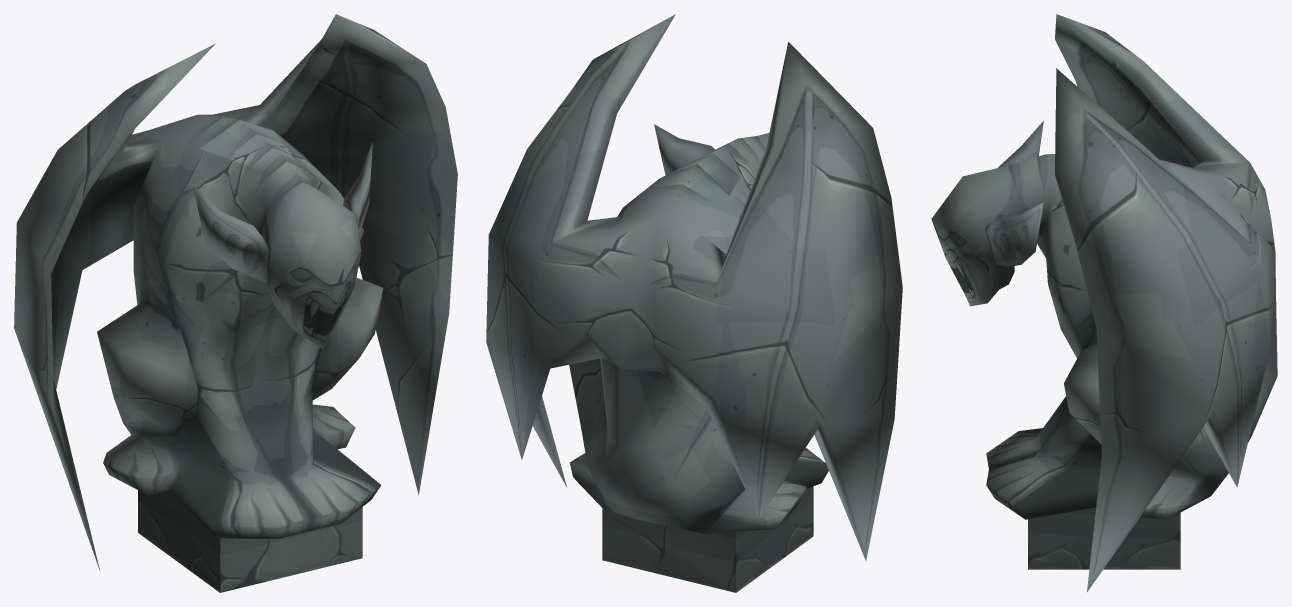
File: Dg_01_StoneStatue_001.FBX
3 renders of one model, left to right at view 1: azimuth 30°, elevation 25°; view 2: azimuth 150°, elevation 25°; view 3: azimuth 270°, elevation 25°, orthographic. The views are drawn at different scales.
Visible parts, largest first — view 1: Dg_01_StoneStatue_001; view 2: Dg_01_StoneStatue_001; view 3: Dg_01_StoneStatue_001.
Part boxes in pixels (left/top/right/bottom): Dg_01_StoneStatue_001: left=14, top=14, right=457, bottom=592; Dg_01_StoneStatue_001: left=486, top=14, right=902, bottom=592; Dg_01_StoneStatue_001: left=931, top=14, right=1277, bottom=591.
Bounding box in the file's own units: 2.72 × 3.43 × 2.17.
